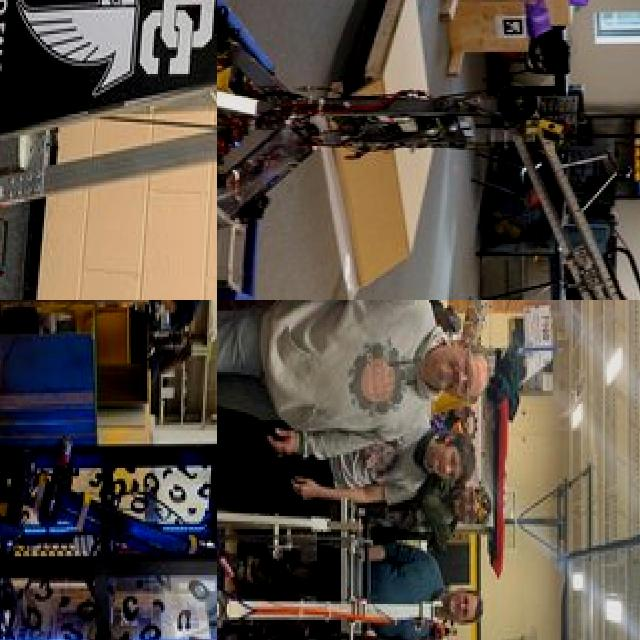FRC-Robots: (217, 0, 640, 300), (0, 0, 217, 300), (0, 347, 217, 640), (217, 490, 407, 640)
